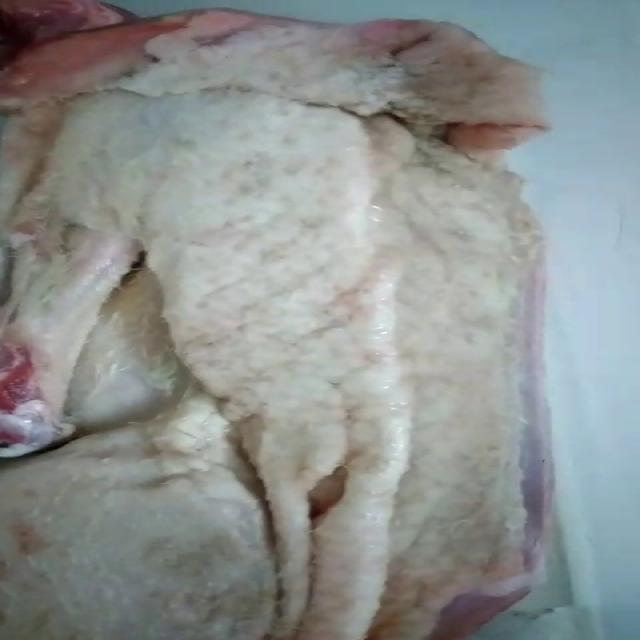chicken: (0, 4, 559, 639)
